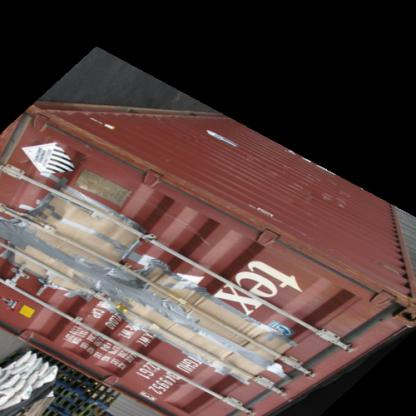Damage: (0, 217, 310, 385)
